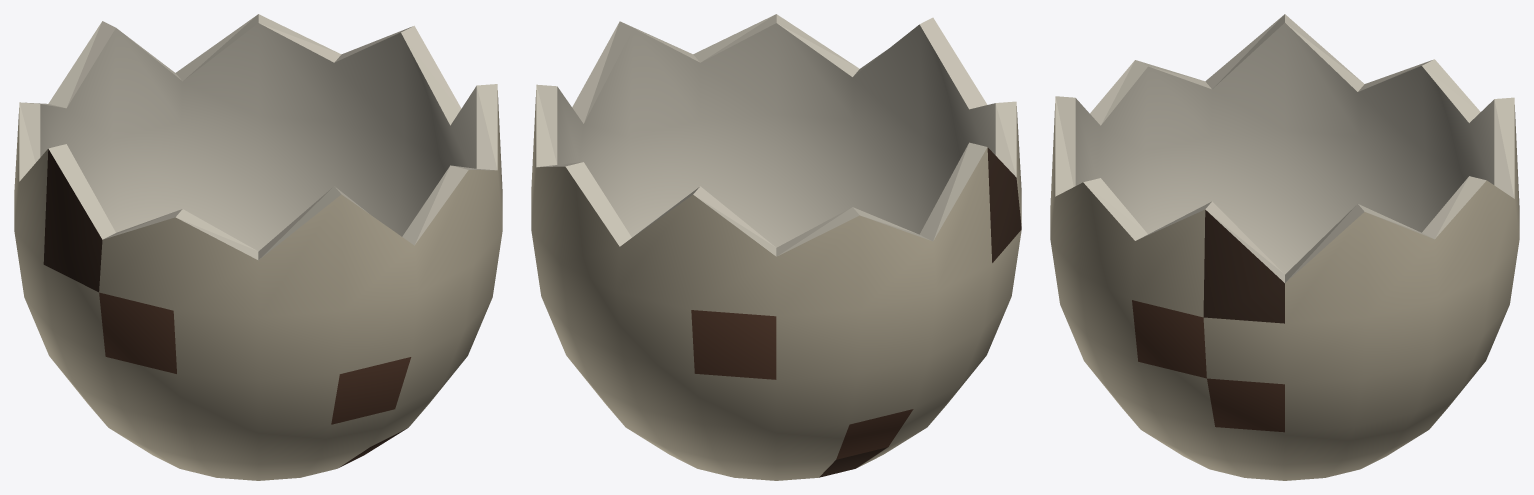
Rendered from kit_egg_half.glb.
3 views of the same model, side by side, from view 1: azimuth 30°, elevation 25°; view 2: azimuth 150°, elevation 25°; view 3: azimuth 270°, elevation 25° (orthographic). The views are drawn at different scales.
Visible parts, largest first — view 1: body; view 2: body; view 3: body.
Part boxes in pixels (x1,y1,x2,y2): body: [14, 14, 502, 480]; body: [531, 14, 1021, 480]; body: [1050, 14, 1519, 480].
Size of the model in its own units: 0.5623 by 0.4549 by 0.5538.
